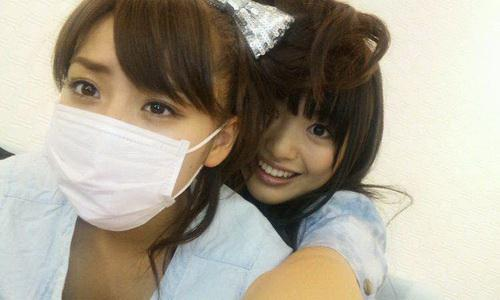NONE: (236, 89, 347, 200)
OK: (55, 55, 207, 225)
